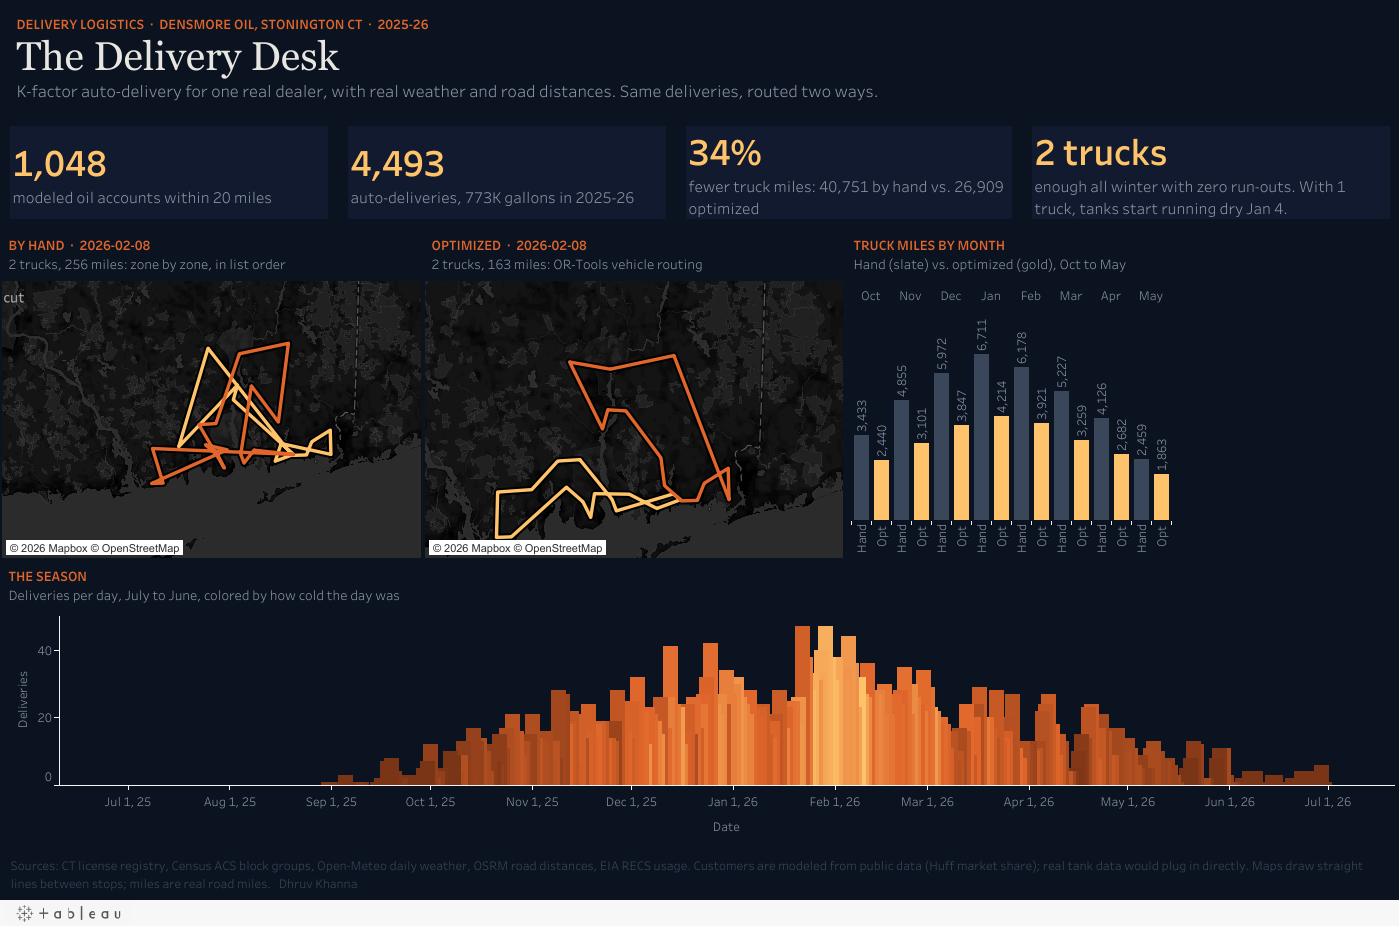

Layout of this report page (visuals, bound fields, positions):
{"tool":"tableau","page":{"name":"The Delivery Desk","canvas":[1400,900],"ordinal":3},"visuals":[{"type":"text","box":[0,0,1400,108]},{"type":"text","box":[0,108,350,90]},{"type":"text","box":[350,108,350,90]},{"type":"text","box":[700,108,350,90]},{"type":"text","box":[1050,108,350,90]},{"type":"text","box":[0,198,476,49.7]},{"type":"text","box":[476,198,476,49.7]},{"type":"text","box":[952,198,448,49.7]},{"type":"worksheet","title":"Routes Hand","mark":"Line","rows":["latitude"],"cols":["longitude"],"box":[0,247.7,476,364.3]},{"type":"worksheet","title":"Routes Optimized","mark":"Line","rows":["latitude"],"cols":["longitude"],"box":[476,247.7,476,364.3]},{"type":"worksheet","title":"Monthly Miles","mark":"Bar","rows":["miles"],"cols":["month","method"],"box":[952,247.7,448,364.3]},{"type":"text","box":[0,612,1400,36]},{"type":"worksheet","title":"Daily Deliveries","mark":"Bar","rows":["deliveries"],"cols":["date"],"box":[0,648,1400,216]},{"type":"text","box":[0,864,1400,36]}]}

Visuals, with their boxes in screenshot pixels (x1, y1, x2, y2), scaled from the page's 1400x900 canvas onto the 1399x926 screenshot:
text: rect(0, 0, 1398, 111)
text: rect(0, 111, 350, 204)
text: rect(350, 111, 700, 204)
text: rect(700, 111, 1049, 204)
text: rect(1049, 111, 1398, 204)
text: rect(0, 204, 476, 255)
text: rect(476, 204, 951, 255)
text: rect(951, 204, 1398, 255)
"Routes Hand" worksheet (Line marks): rect(0, 255, 476, 630)
"Routes Optimized" worksheet (Line marks): rect(476, 255, 951, 630)
"Monthly Miles" worksheet (Bar marks): rect(951, 255, 1398, 630)
text: rect(0, 630, 1398, 667)
"Daily Deliveries" worksheet (Bar marks): rect(0, 667, 1398, 889)
text: rect(0, 889, 1398, 925)
